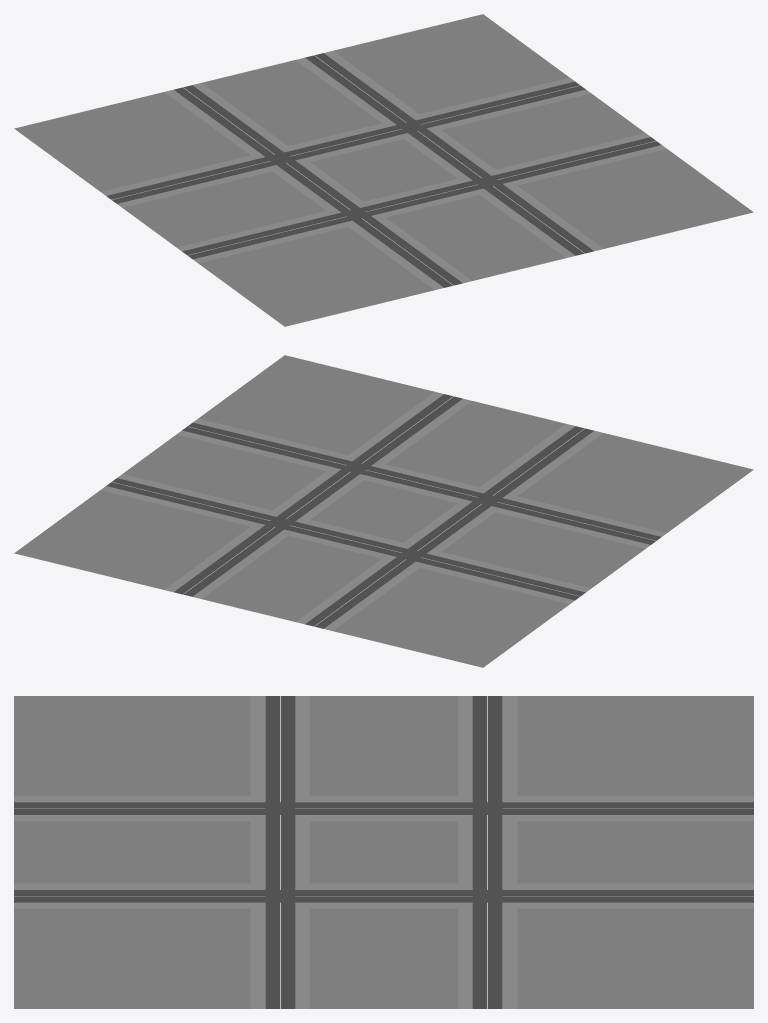
The model's file is Road_01.fbx.
The picture shows the model from 3 angles, top to bottom: view 1: azimuth 30°, elevation 25°; view 2: azimuth 150°, elevation 25°; view 3: azimuth 270°, elevation 25°; orthographic projection. The views are drawn at different scales.
Visible parts, largest first — view 1: Road_01; view 2: Road_01; view 3: Road_01.
Part boxes in pixels (<box>): Road_01: <box>14,14,753,326</box>; Road_01: <box>14,355,753,667</box>; Road_01: <box>14,696,753,1008</box>.
Bounding box in the file's own units: 20000 × 0 × 20000.
